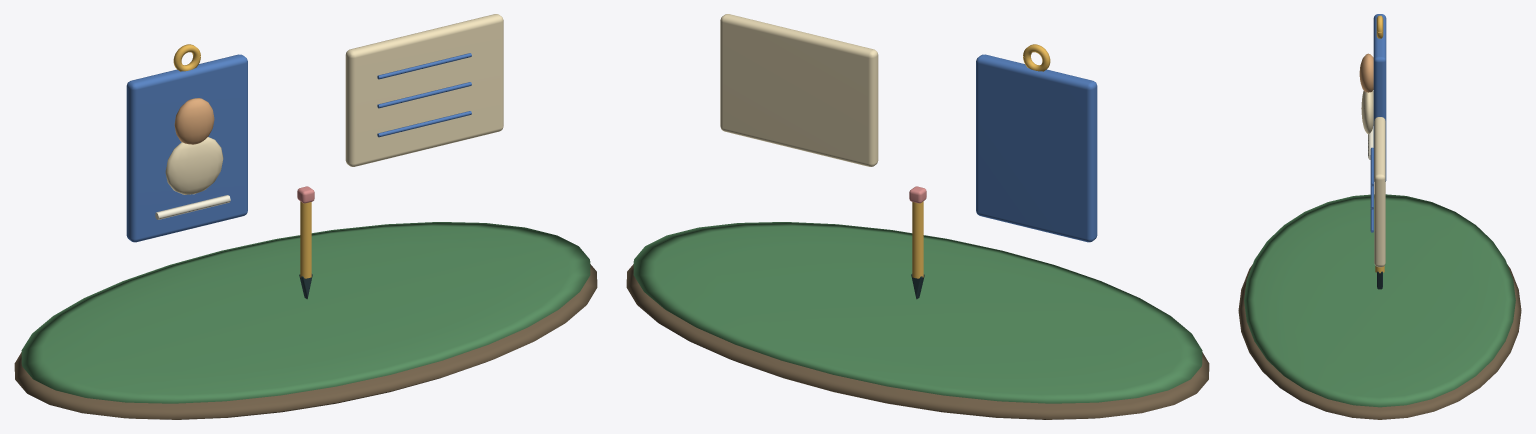
Rendered from complete-first-name-and-character.glb.
The picture shows the model from 3 angles, left to right: view 1: azimuth 30°, elevation 25°; view 2: azimuth 150°, elevation 25°; view 3: azimuth 270°, elevation 25°; orthographic projection. The views are drawn at different scales.
Visible parts, largest first — view 1: complete-first-name-and-character_surface_01, complete-first-name-and-character_surface_04, complete-first-name-and-character_surface_02, complete-first-name-and-character_surface_00, complete-first-name-and-character_surface_03, complete-first-name-and-character_surface_06, complete-first-name-and-character_surface_05; view 2: complete-first-name-and-character_surface_01, complete-first-name-and-character_surface_02, complete-first-name-and-character_surface_04, complete-first-name-and-character_surface_00, complete-first-name-and-character_surface_06; view 3: complete-first-name-and-character_surface_01, complete-first-name-and-character_surface_00, complete-first-name-and-character_surface_04, complete-first-name-and-character_surface_02, complete-first-name-and-character_surface_03.
Boxes of the visible parts, bbox=[...] form: complete-first-name-and-character_surface_01: bbox=[21, 222, 590, 403]; complete-first-name-and-character_surface_04: bbox=[165, 14, 503, 194]; complete-first-name-and-character_surface_02: bbox=[126, 53, 471, 242]; complete-first-name-and-character_surface_00: bbox=[14, 264, 597, 419]; complete-first-name-and-character_surface_03: bbox=[174, 98, 214, 144]; complete-first-name-and-character_surface_06: bbox=[173, 44, 311, 278]; complete-first-name-and-character_surface_05: bbox=[155, 195, 230, 219]; complete-first-name-and-character_surface_01: bbox=[633, 222, 1202, 403]; complete-first-name-and-character_surface_02: bbox=[976, 54, 1097, 242]; complete-first-name-and-character_surface_04: bbox=[720, 14, 878, 166]; complete-first-name-and-character_surface_00: bbox=[626, 264, 1209, 419]; complete-first-name-and-character_surface_06: bbox=[912, 44, 1050, 278]; complete-first-name-and-character_surface_01: bbox=[1244, 194, 1515, 407]; complete-first-name-and-character_surface_00: bbox=[1238, 264, 1521, 419]; complete-first-name-and-character_surface_04: bbox=[1361, 90, 1385, 267]; complete-first-name-and-character_surface_02: bbox=[1370, 14, 1386, 232]; complete-first-name-and-character_surface_03: bbox=[1359, 53, 1373, 92].
Size of the model in its own units: 4.56 by 2.54 by 2.5.
